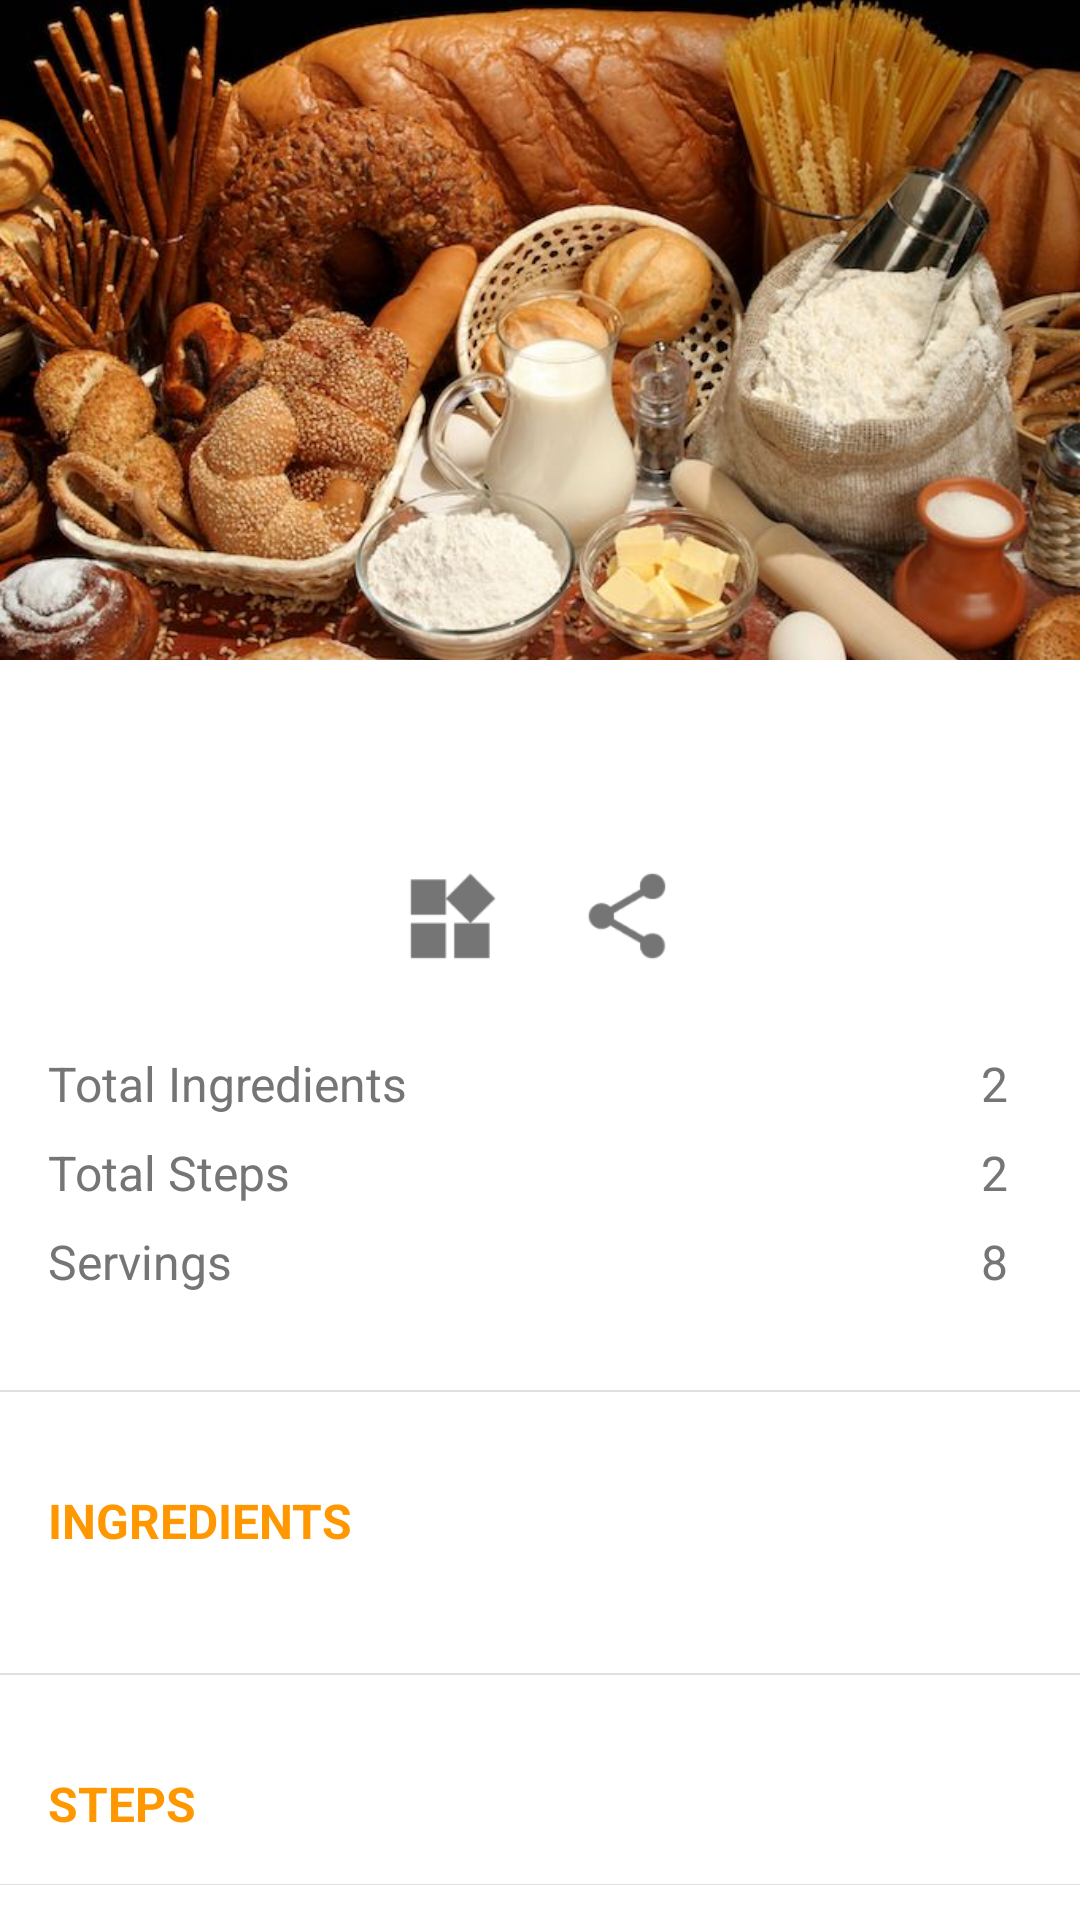

Named icons in this screenshot (1080 x 1920) and their bounding boxes, {"x1": x1, "y1": y1, "x2": x2, "y2": y2}:
share: {"x1": 588, "y1": 873, "x2": 666, "y2": 959}
widgets: {"x1": 410, "y1": 874, "x2": 495, "y2": 959}
